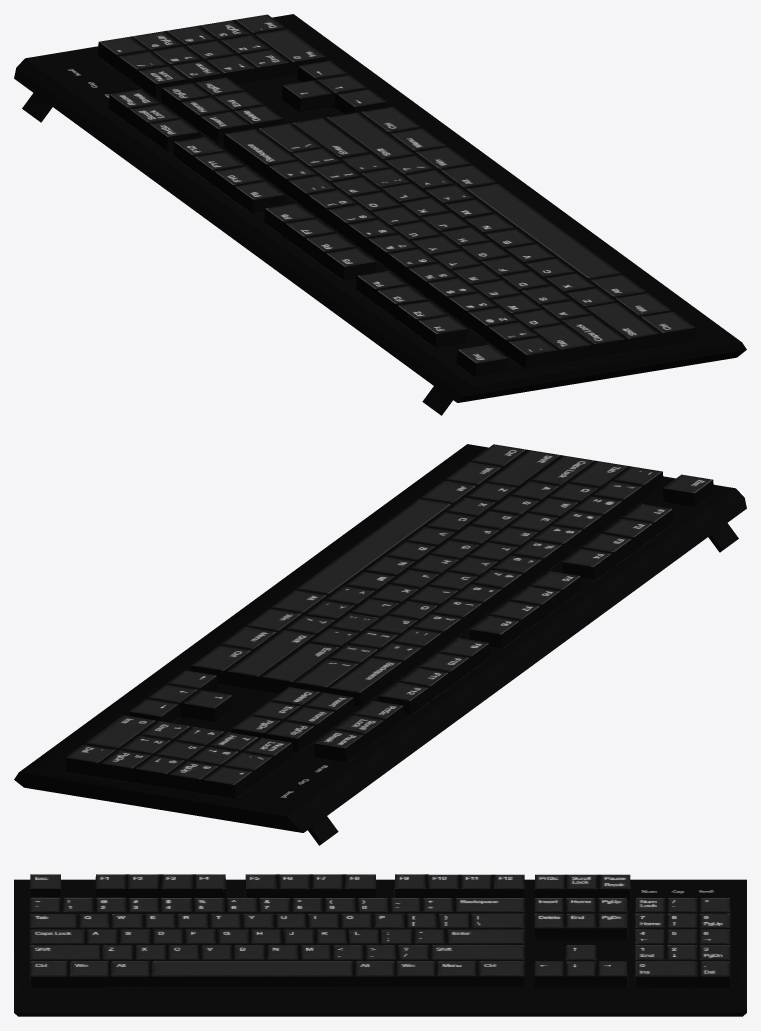
The model's file is keyboard.glb.
The picture shows the model from 3 angles, top to bottom: view 1: azimuth 30°, elevation 25°; view 2: azimuth 150°, elevation 25°; view 3: azimuth 270°, elevation 25°; orthographic projection. The views are drawn at different scales.
Parts seen in each view (by area): view 1: Cube.001; view 2: Cube.001; view 3: Cube.001.
Part boxes in pixels (left/top/right/bottom): Cube.001: left=14, top=14, right=746, bottom=415; Cube.001: left=14, top=444, right=746, bottom=845; Cube.001: left=14, top=874, right=746, bottom=1016.
Bounding box in the file's own units: 0.4 × 0.0662 × 1.06.
1 material, 1 textured.
